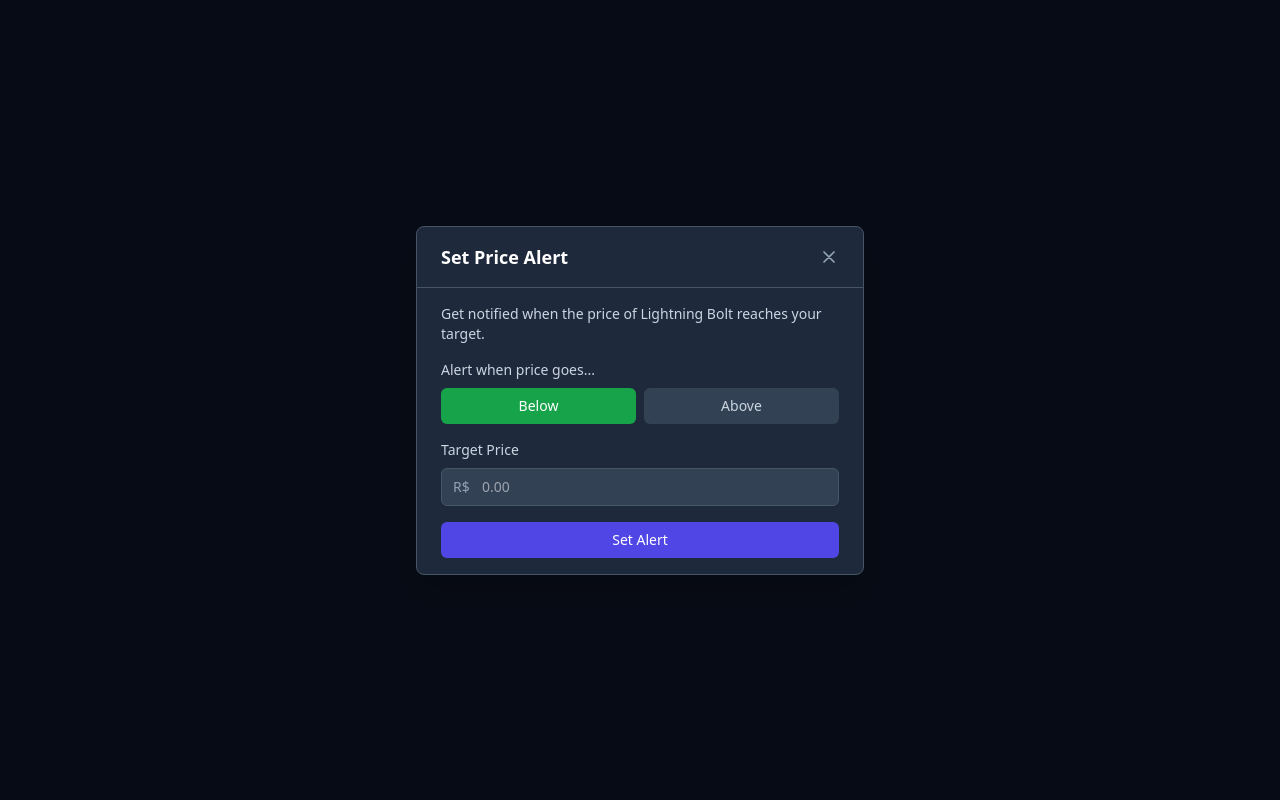
SetAlertModal › shows error when API returns error
The width and height of the screenshot is (1280, 800).
Type "10.00" into the number field with test id "target-price-input". click: (640, 486)
box: [441,468,839,506]
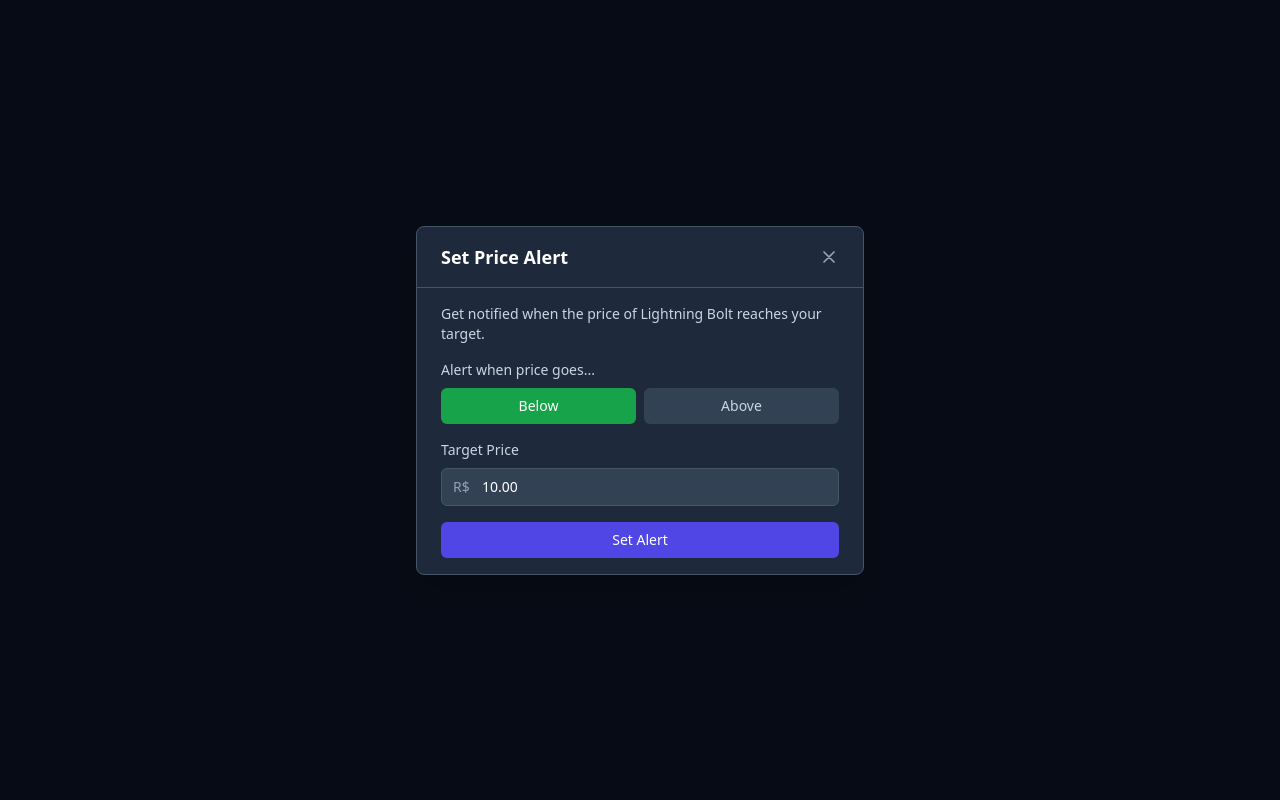
Click the button with test id "submit-alert". click: (640, 540)
box: [441,522,839,558]
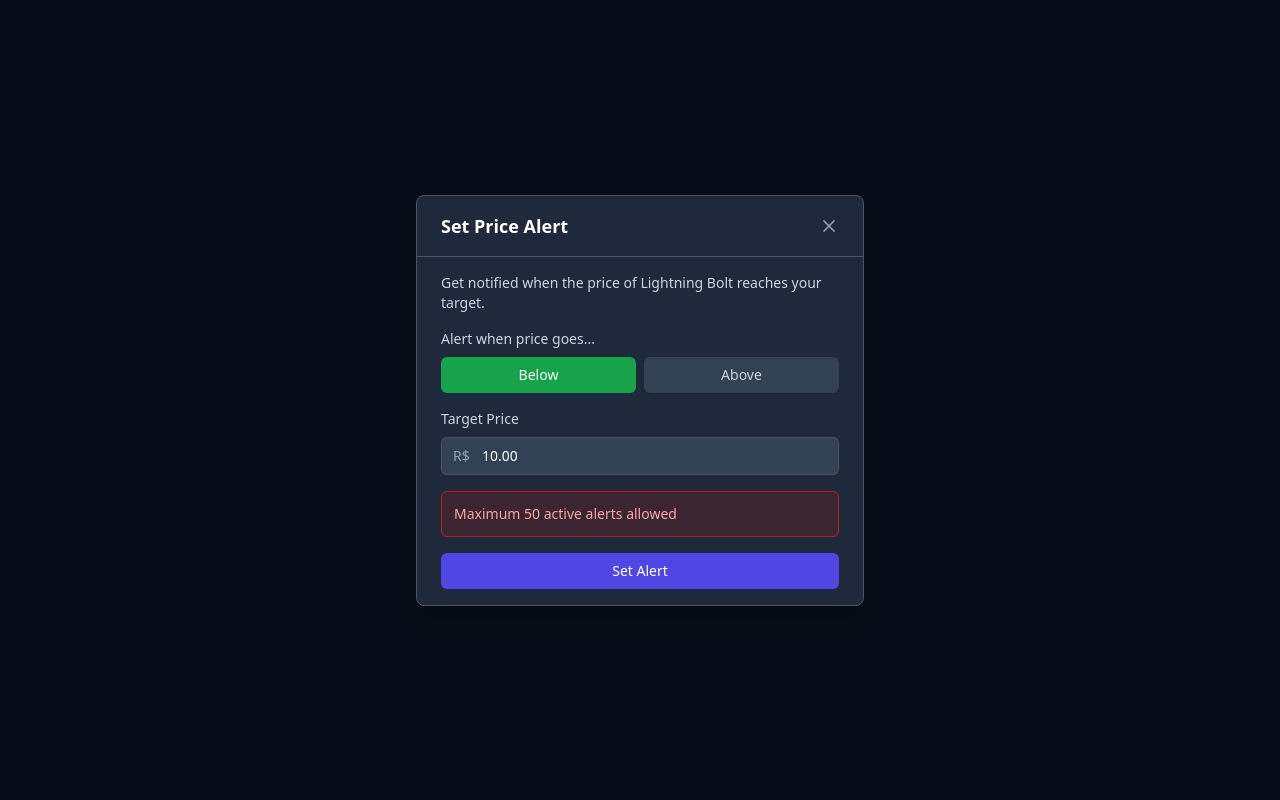
Expected: the text "Maximum 50 active alerts allowed" is shown, [441,490,839,536]
